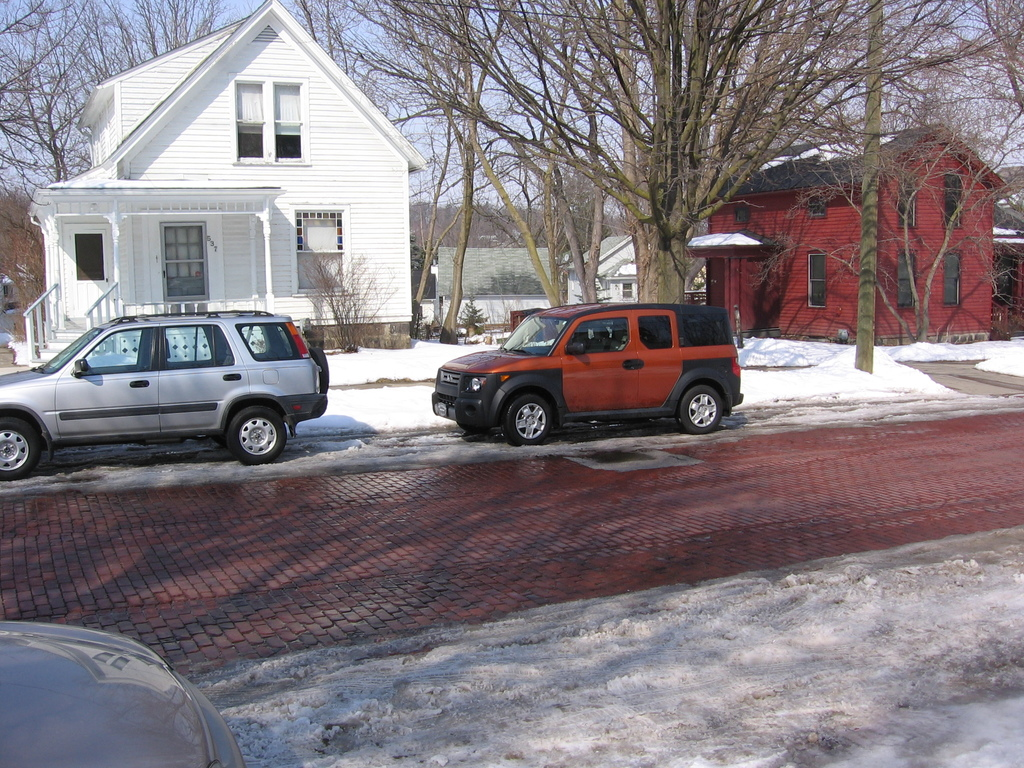mobil: (1, 305, 332, 462), (434, 299, 752, 445)
